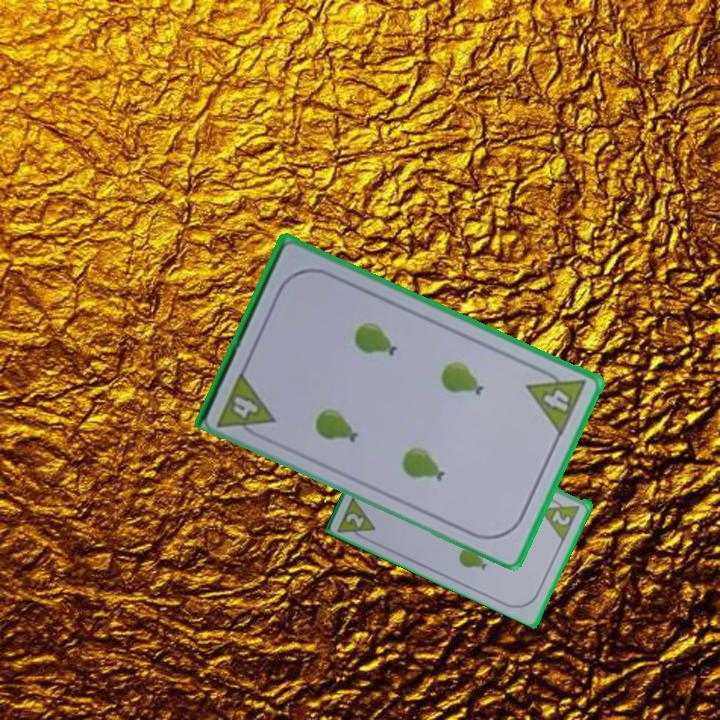2p: (548, 507, 574, 528), (343, 509, 367, 530)
4p: (523, 362, 589, 438), (214, 367, 278, 443)
